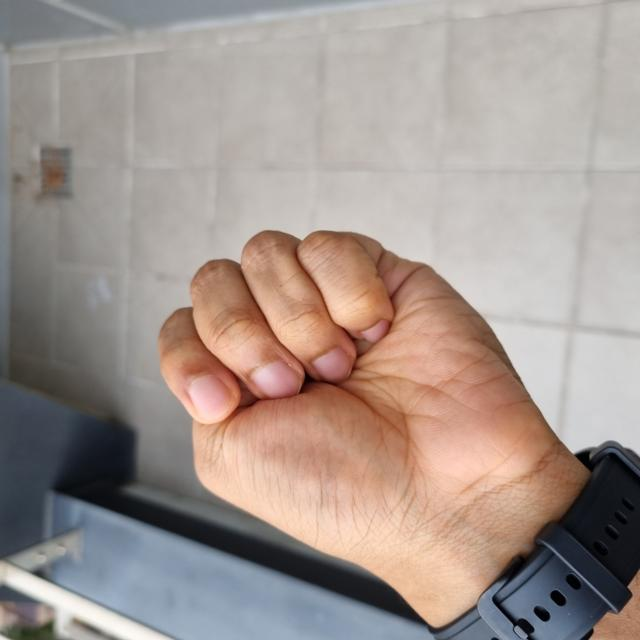Rock: (25, 158, 407, 581)
